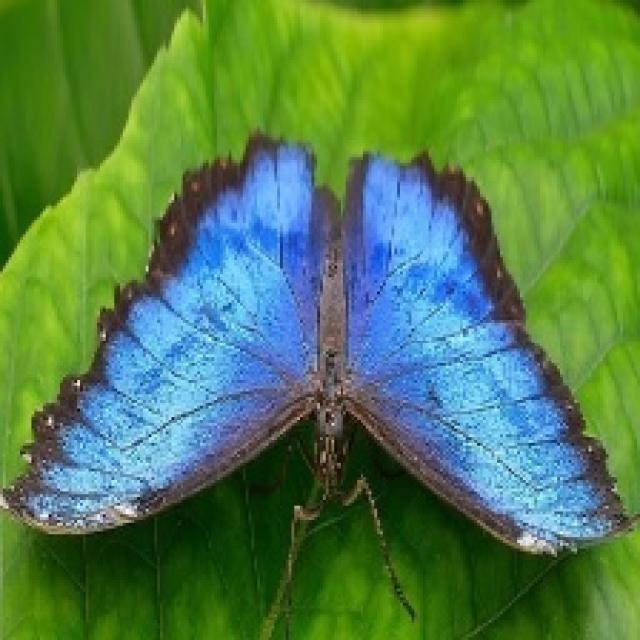butterfly: (0, 125, 637, 626)
